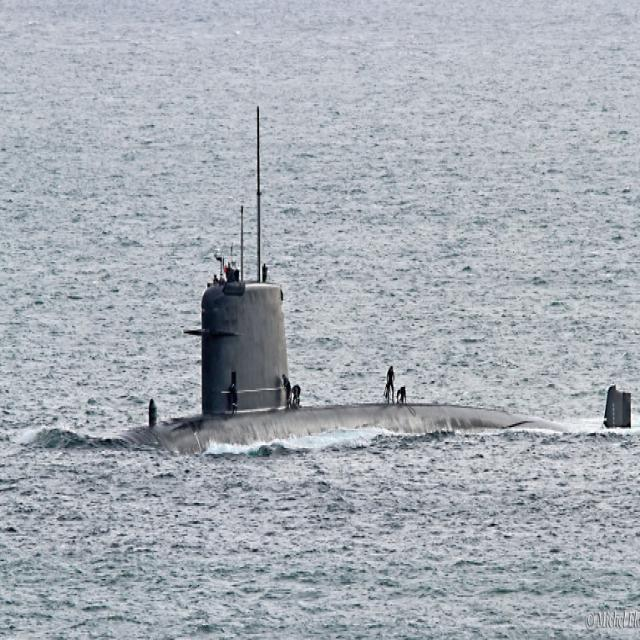submarine: (9, 133, 639, 458)
